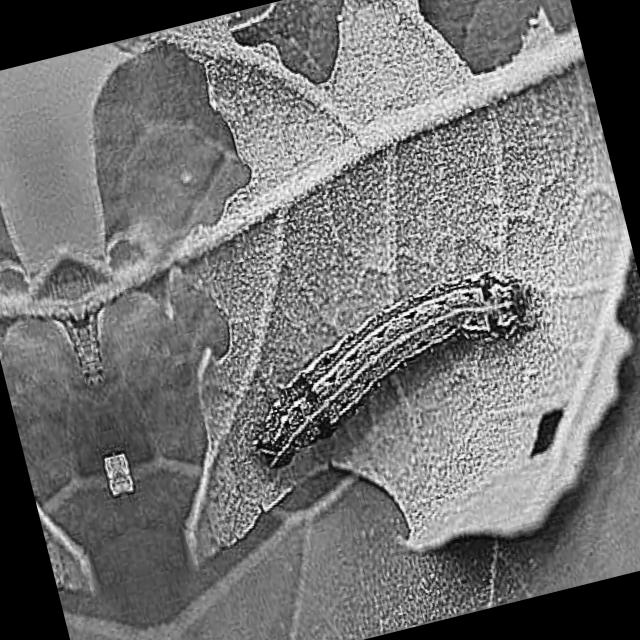Armyworm: (212, 261, 565, 469)
